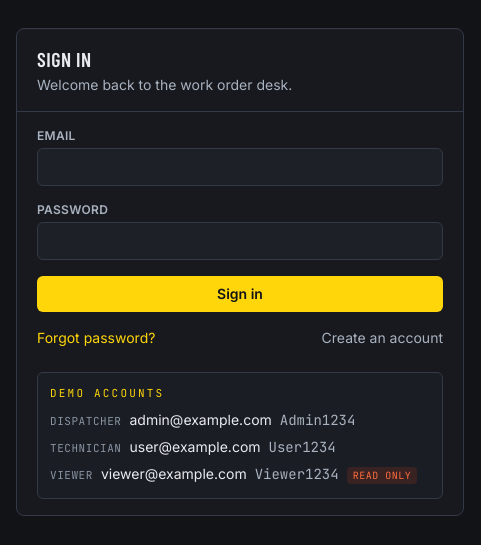
Test case: LoginPage › shows field errors for an empty password
Type "tech@example.com" into the field labelled "Email" at (240, 167), box [37, 148, 443, 186]
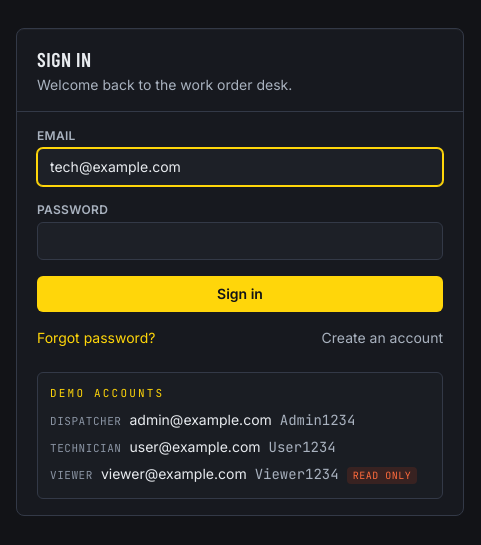
Click the button "Sign in" at (240, 294), box [37, 276, 443, 312]
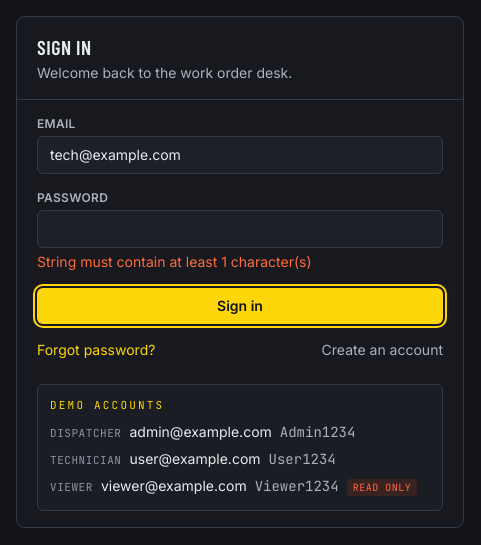
Expected: the text "String must contain at least 1 character(s)" is shown, [37, 253, 312, 270]
